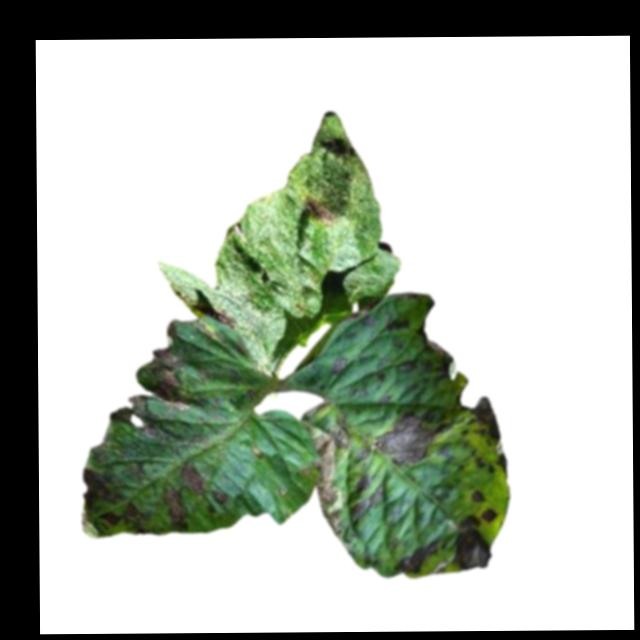Early_blight: (81, 444, 142, 539), (370, 407, 450, 466), (311, 414, 345, 539), (107, 394, 175, 445), (147, 318, 190, 395), (467, 396, 508, 475), (447, 508, 496, 570), (159, 486, 192, 532), (395, 540, 437, 574), (349, 480, 382, 522), (300, 193, 336, 227), (180, 458, 205, 496), (214, 306, 236, 328), (385, 315, 412, 332), (327, 355, 349, 375), (353, 474, 371, 494), (467, 487, 489, 503)
